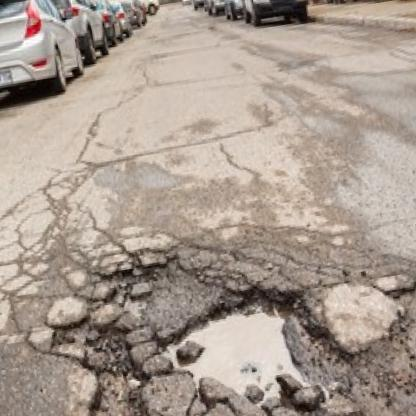pothole: (137, 268, 323, 416)
